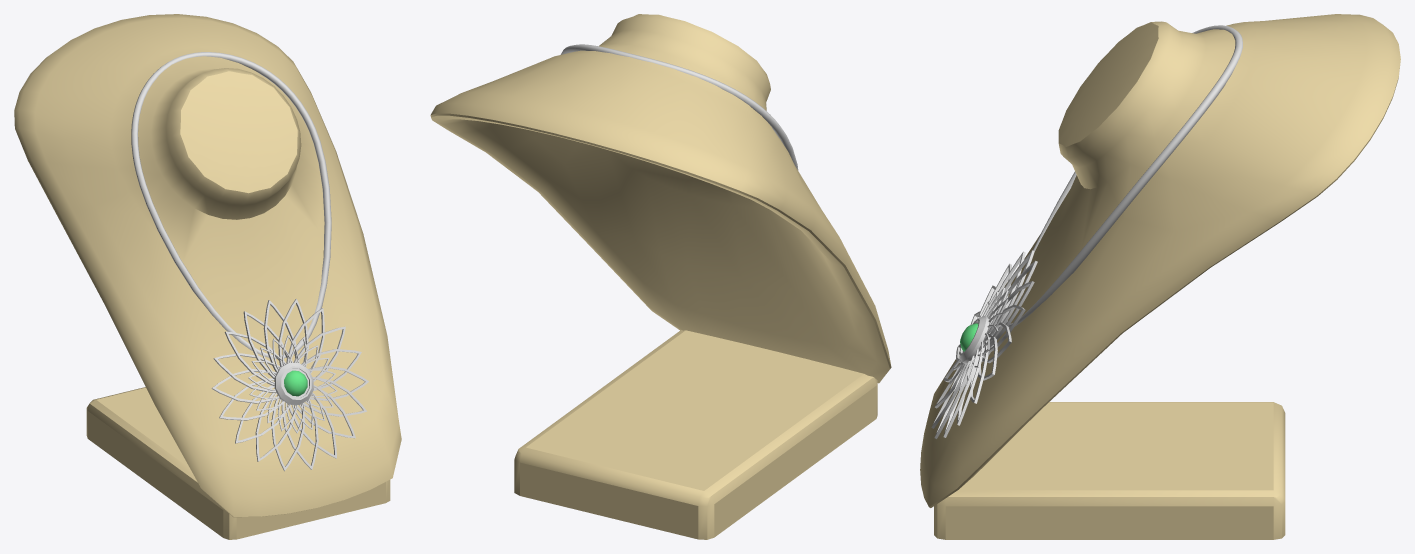
The model's file is Necklace_13.fbx.
3 views of the same model, side by side, from view 1: azimuth 30°, elevation 25°; view 2: azimuth 150°, elevation 25°; view 3: azimuth 270°, elevation 25° (orthographic). The views are drawn at different scales.
Visible parts, largest first — view 1: SM_Stand_Necklace_17, SM_Cullon_1, SM_Necklace_14; view 2: SM_Stand_Necklace_17, SM_Necklace_14; view 3: SM_Stand_Necklace_17, SM_Cullon_1, SM_Necklace_14.
Boxes of the visible parts, x1,y1,x2,y2 form: SM_Stand_Necklace_17: [14, 14, 401, 539]; SM_Cullon_1: [211, 299, 368, 471]; SM_Necklace_14: [131, 52, 331, 358]; SM_Stand_Necklace_17: [430, 14, 891, 539]; SM_Necklace_14: [560, 44, 798, 170]; SM_Stand_Necklace_17: [920, 14, 1400, 539]; SM_Cullon_1: [931, 250, 1037, 438]; SM_Necklace_14: [1006, 25, 1242, 327].
Bounding box in the file's own units: 22.51 × 29.29 × 27.78.
